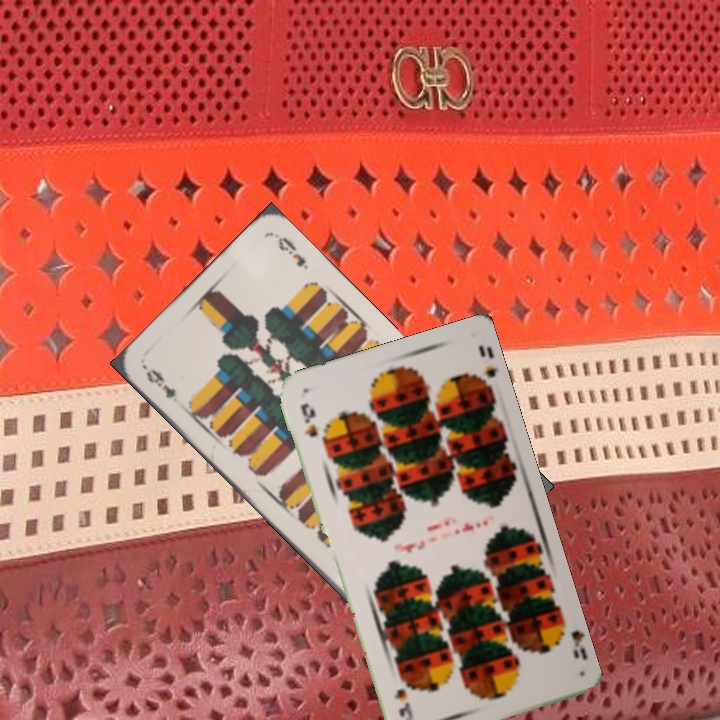E9: (140, 362, 179, 401)
S9: (555, 617, 582, 661), (296, 399, 320, 440)
